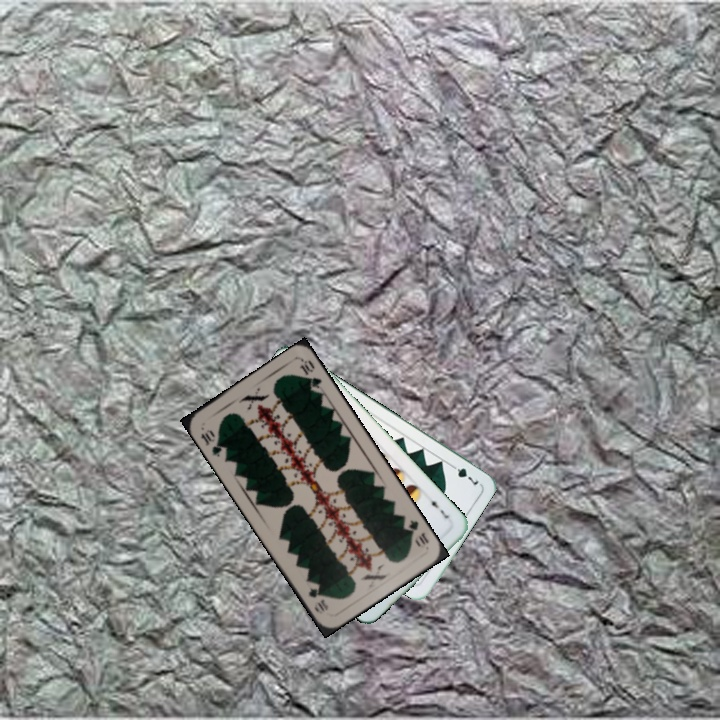E7: (426, 493, 451, 521)
G10: (197, 425, 229, 460), (403, 516, 431, 548)
G7: (446, 459, 481, 488)
